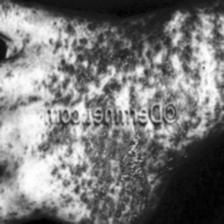Non-Cancerous Skin Condition: (40, 128, 164, 224), (40, 26, 157, 104), (171, 0, 224, 132)
